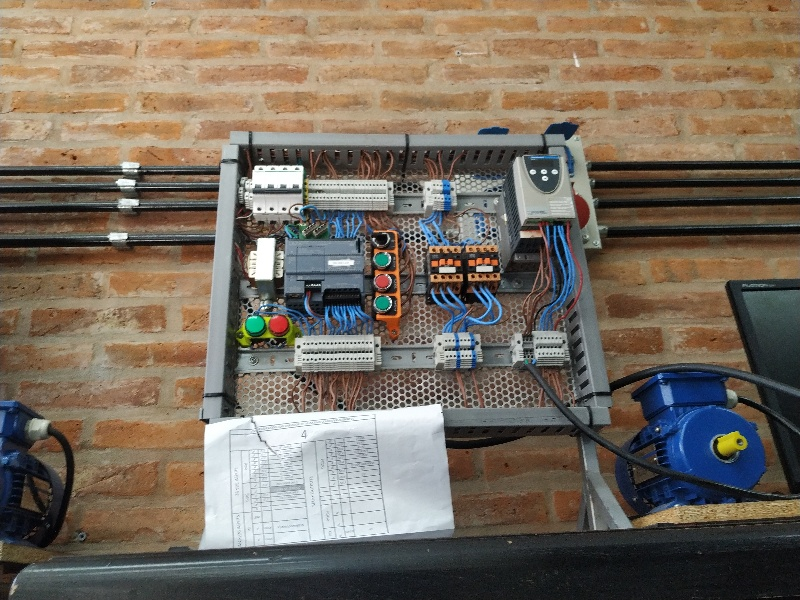Tablero 4: (234, 140, 588, 414)
